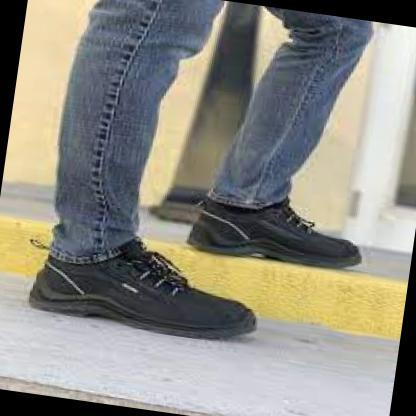safety-shoe: (7, 230, 271, 364), (176, 179, 380, 284)
